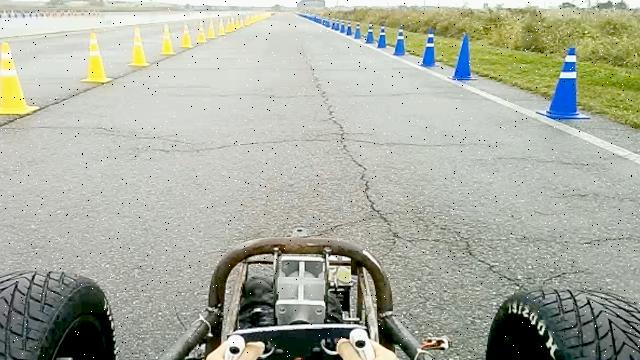blue cone: (536, 46, 591, 121), (448, 32, 478, 80), (419, 28, 440, 67), (392, 26, 407, 56), (377, 25, 388, 48), (364, 23, 376, 44), (353, 22, 362, 39), (331, 18, 340, 31), (346, 21, 353, 36), (340, 20, 347, 34)
yellow cone: (0, 41, 41, 115), (80, 31, 113, 83), (127, 26, 150, 67), (160, 24, 176, 55), (179, 23, 194, 48), (196, 20, 208, 43), (207, 18, 217, 38), (218, 18, 226, 36), (226, 18, 234, 32)
